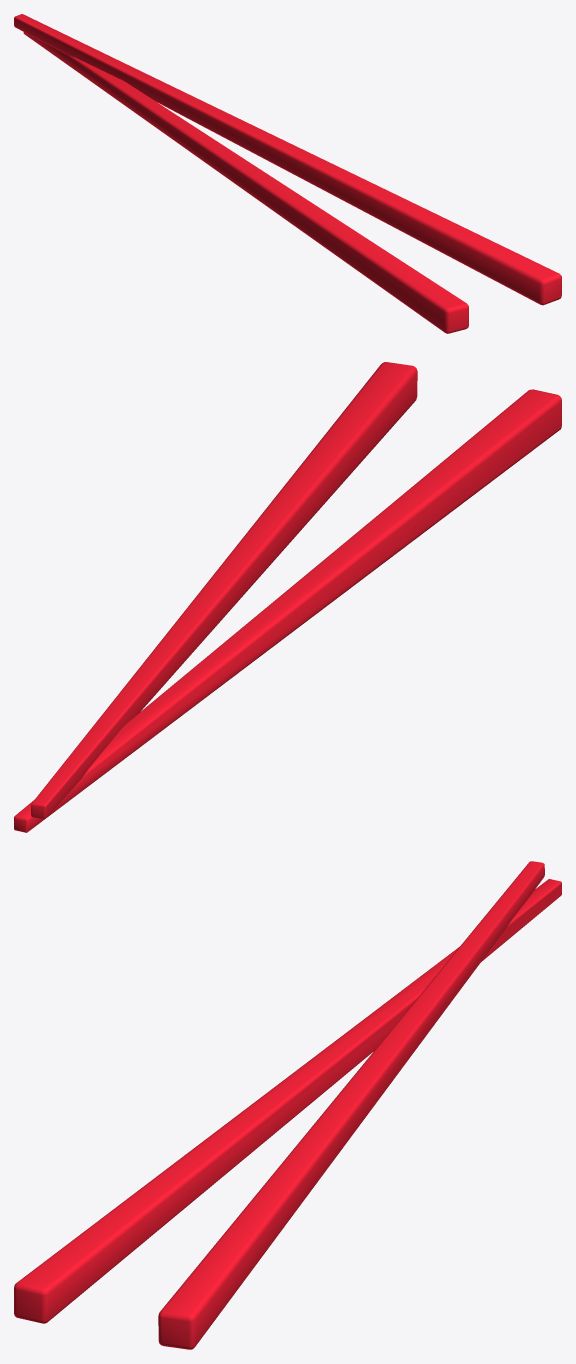
The model's file is CHOPSTICK.fbx.
3 views of the same model, one above another, from view 1: azimuth 30°, elevation 25°; view 2: azimuth 150°, elevation 25°; view 3: azimuth 330°, elevation 25° (orthographic). The views are drawn at different scales.
Parts seen in each view (by area): view 1: Spoons and chopsticks.001; view 2: Spoons and chopsticks.001; view 3: Spoons and chopsticks.001.
Part boxes in pixels (bbox=[...]): Spoons and chopsticks.001: bbox=[14, 14, 561, 333]; Spoons and chopsticks.001: bbox=[14, 362, 561, 832]; Spoons and chopsticks.001: bbox=[14, 861, 561, 1349].
Bounding box in the file's own units: 107 × 20.35 × 496.
